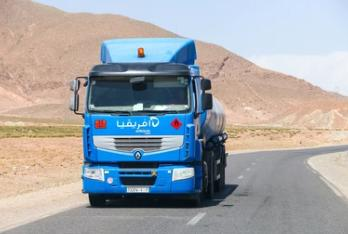vehicle: (69, 37, 227, 207)
